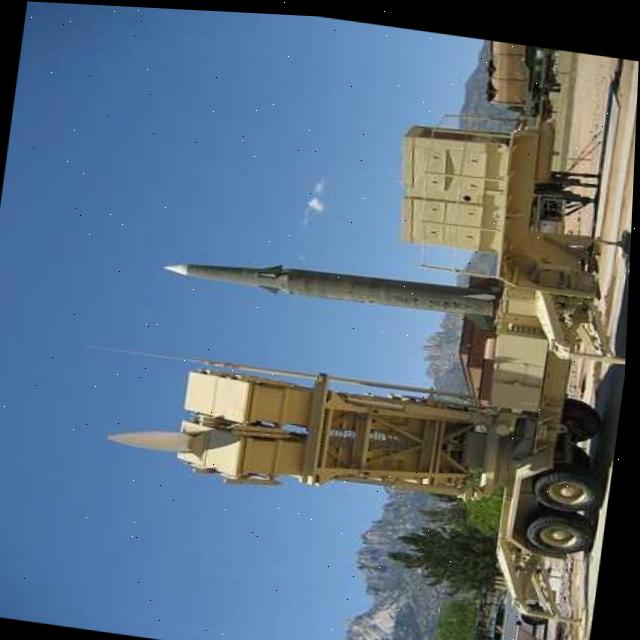missile: (159, 233, 502, 321)
